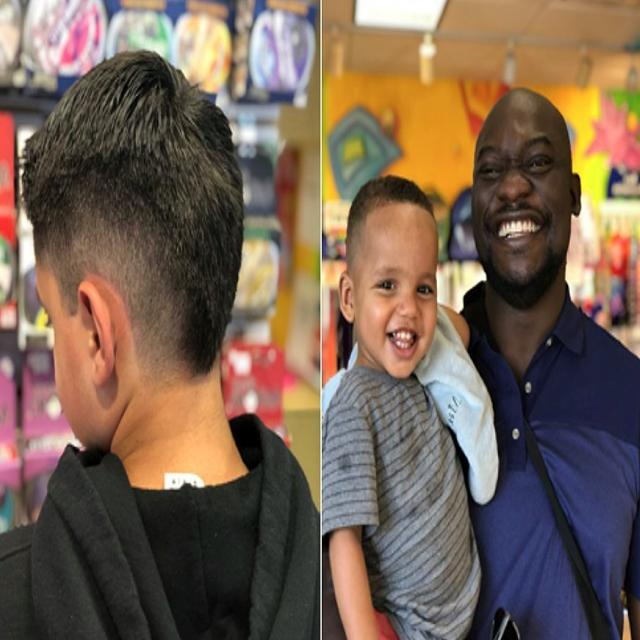adult: (464, 84, 640, 640)
child: (0, 52, 316, 640), (322, 175, 477, 640)
